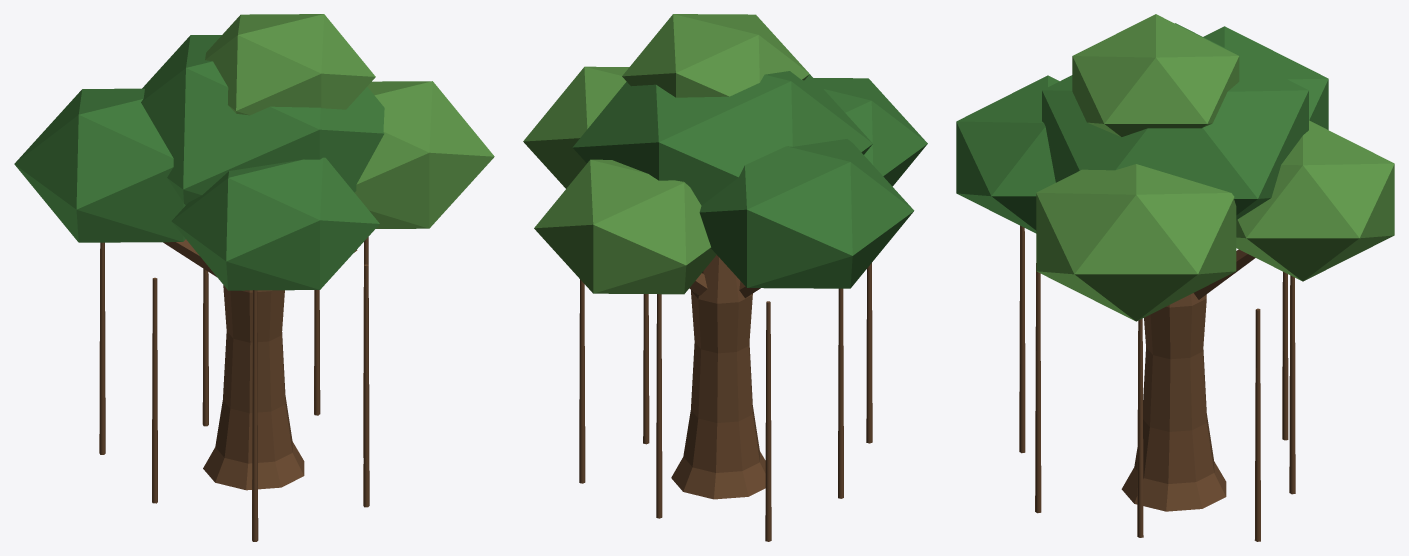
Rendered from mbs.banyan-tree.glb.
3 renders of one model, left to right at view 1: azimuth 30°, elevation 25°; view 2: azimuth 150°, elevation 25°; view 3: azimuth 270°, elevation 25°, orthographic. The views are drawn at different scales.
Parts seen in each view (by area): view 1: Banyan Tree; view 2: Banyan Tree; view 3: Banyan Tree.
Boxes of the visible parts, box(x1,y1,x2,y2) form: Banyan Tree: box(14, 14, 494, 541); Banyan Tree: box(523, 14, 927, 541); Banyan Tree: box(956, 14, 1394, 541).
Size of the model in its own units: 4.58 by 5.2 by 4.47.
